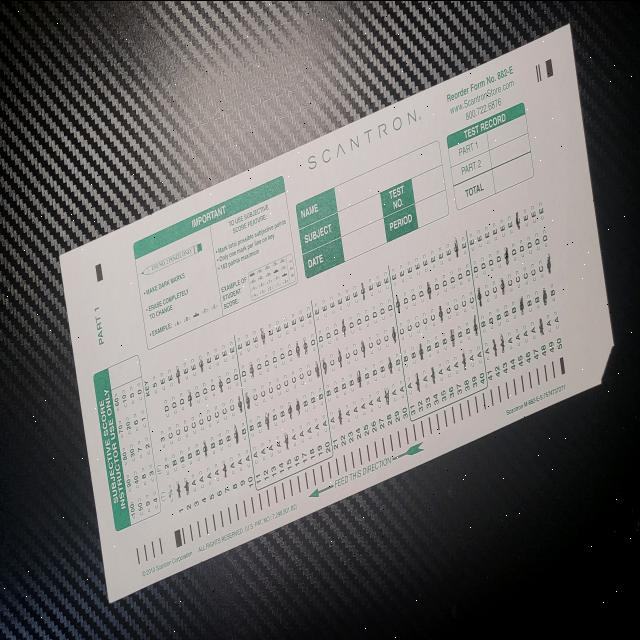scantron: (58, 22, 614, 606)
